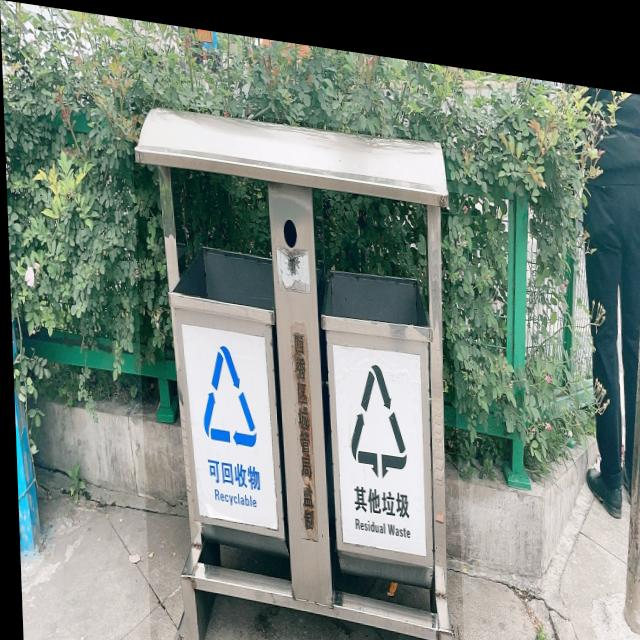garbage_bin: (130, 93, 462, 640)
